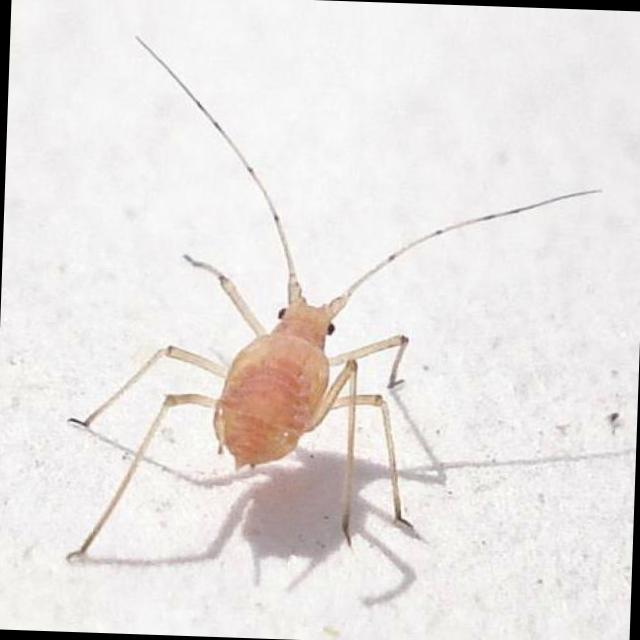aphid: (24, 27, 591, 588)
